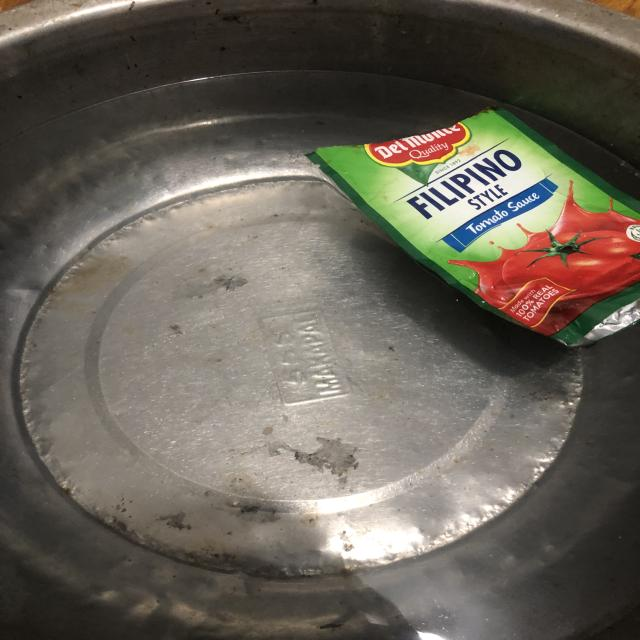Plastic Pouch: (326, 123, 640, 351)
